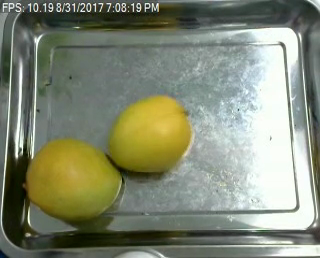Mango: (27, 137, 120, 220), (106, 94, 192, 170)
